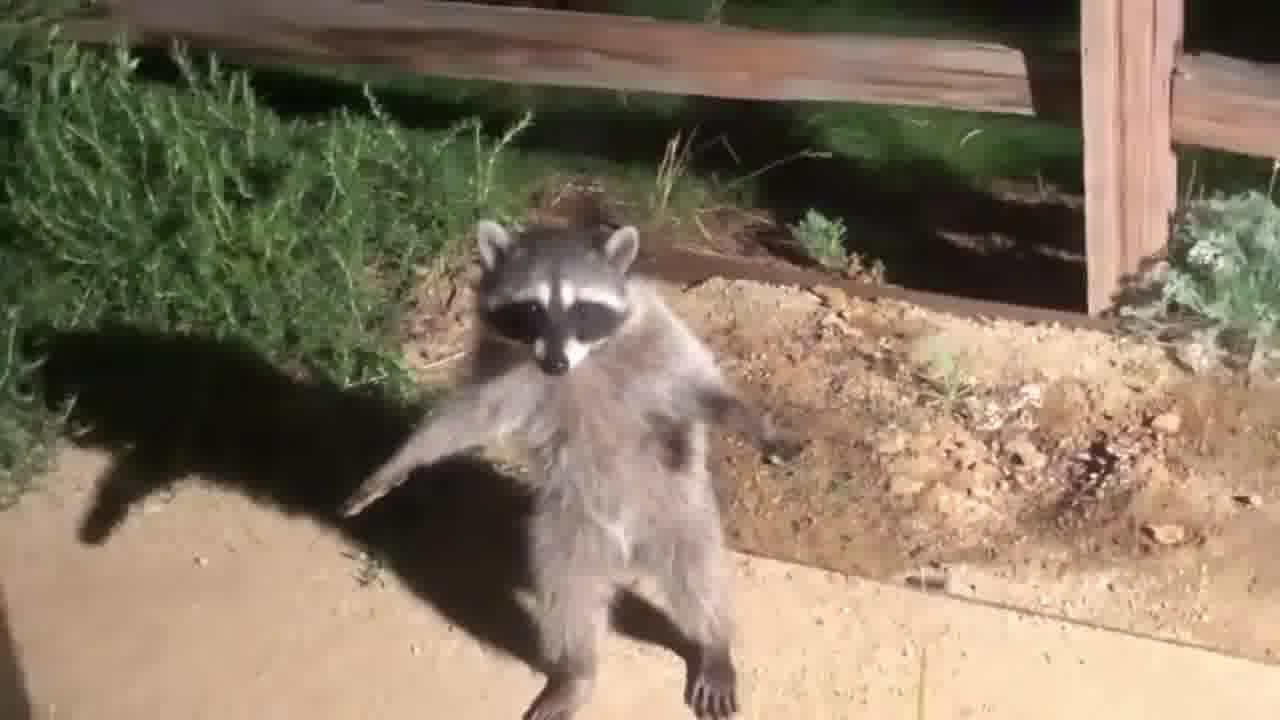raccoon: (333, 204, 817, 720)
